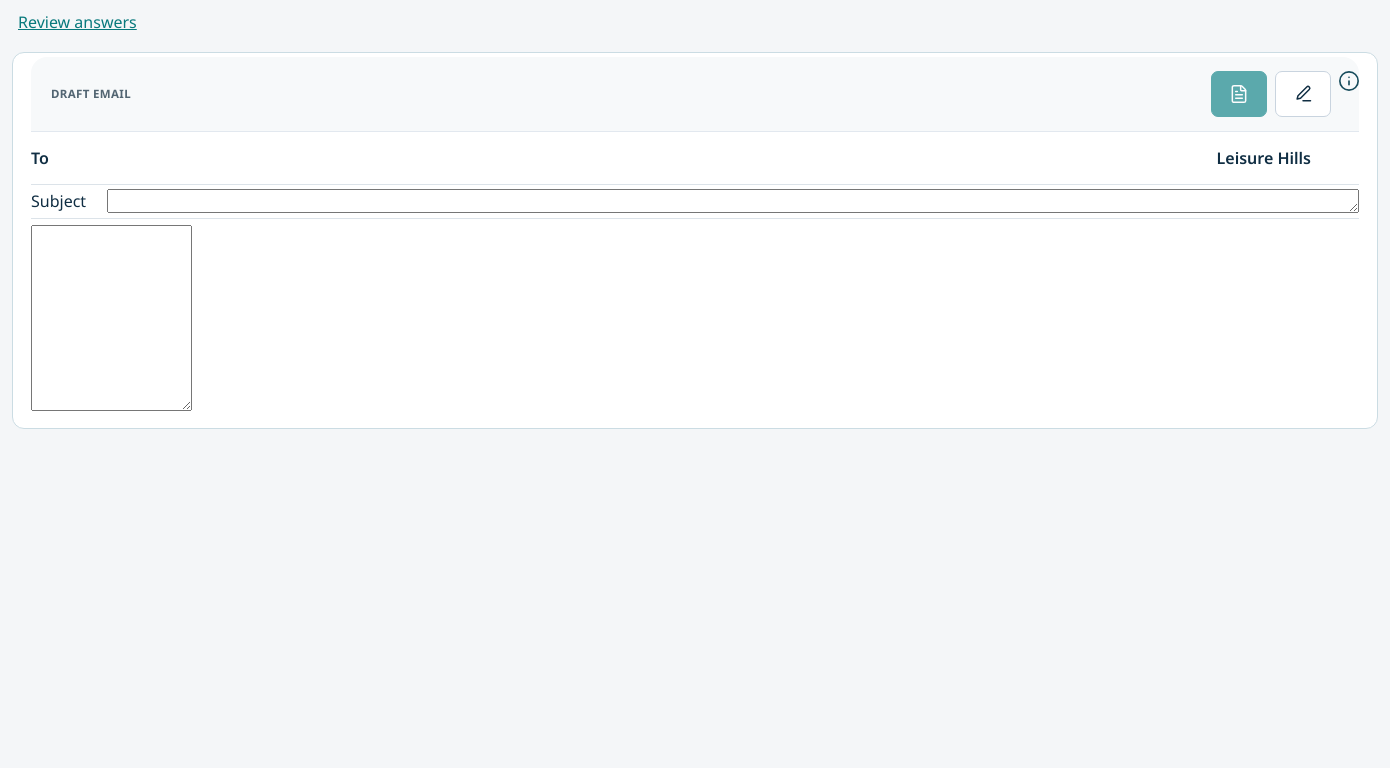
Test case: answer review preserves dated resolution and conflicting accounts
The width and height of the screenshot is (1390, 768).
Click the button "Review answers" at (77, 22), box [12,0,143,44]
(page scrolled)
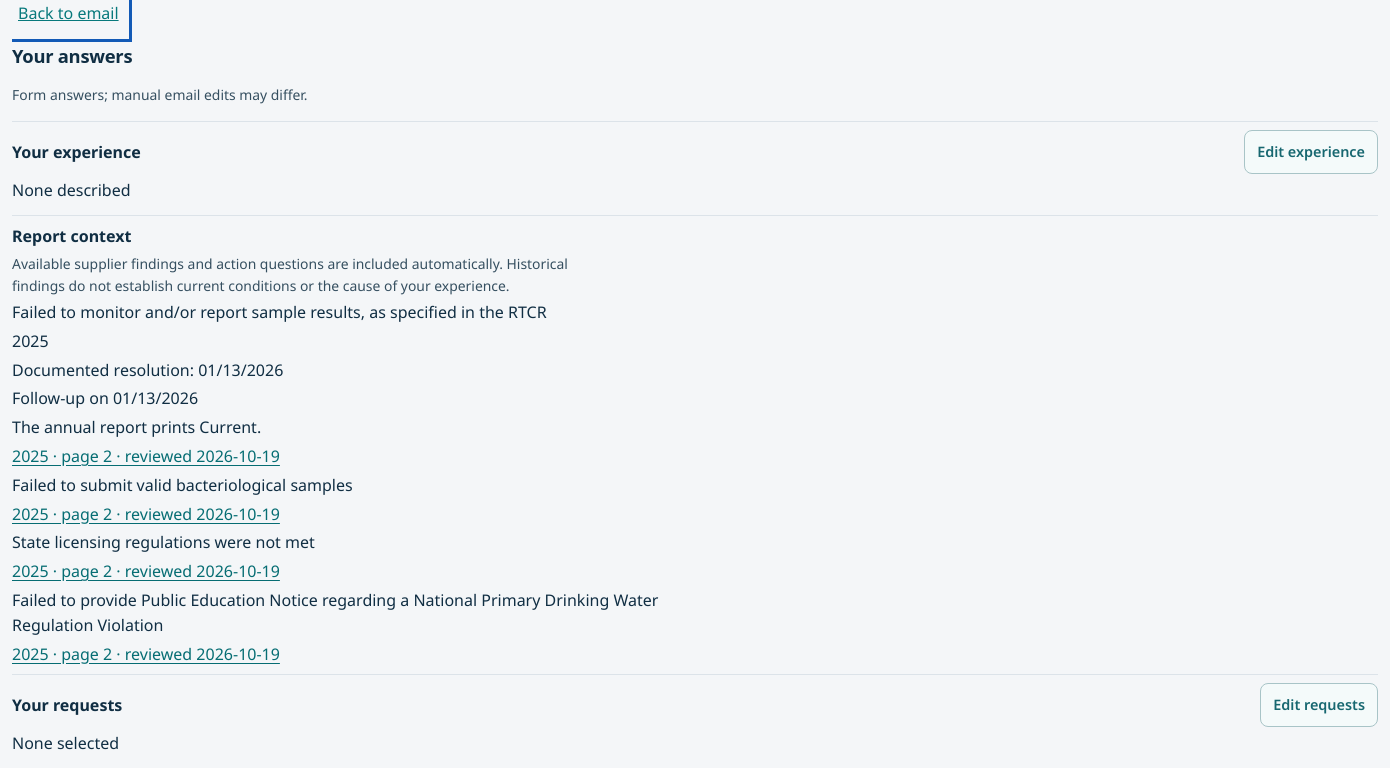
Now the element named "Summary of form answers" shows "Documented resolution: 01/13/2026", box [12,359,283,381]
Now the element named "Summary of form answers" shows "The annual report prints Current.", box [12,416,261,438]
